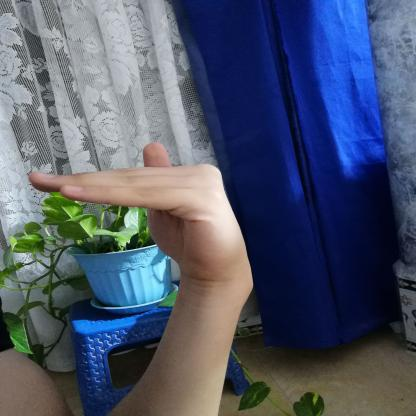KHAA: (16, 134, 267, 295)
